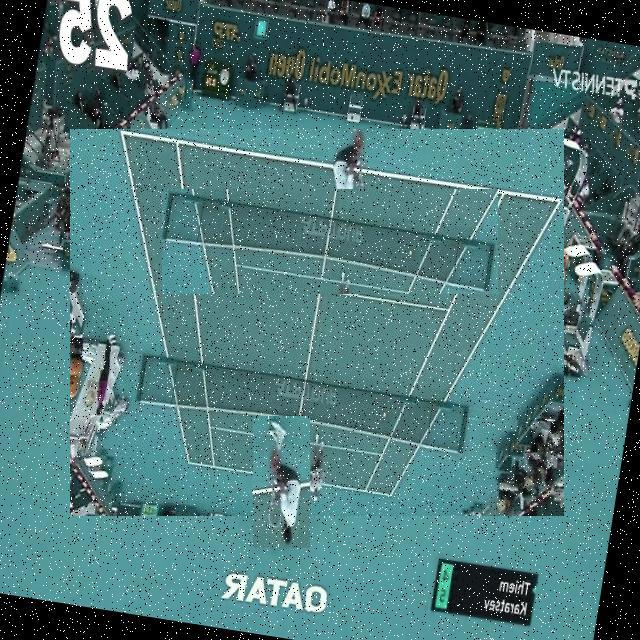court: (70, 130, 564, 518)
net: (162, 190, 498, 294)
player: (253, 417, 310, 548)
